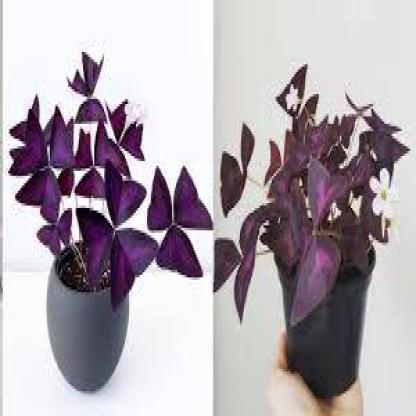Kupu-Kupu: (62, 53, 155, 157), (283, 167, 347, 308), (14, 115, 80, 219), (149, 162, 202, 291), (209, 207, 274, 308), (91, 179, 143, 303), (359, 113, 396, 194), (219, 125, 249, 184)
